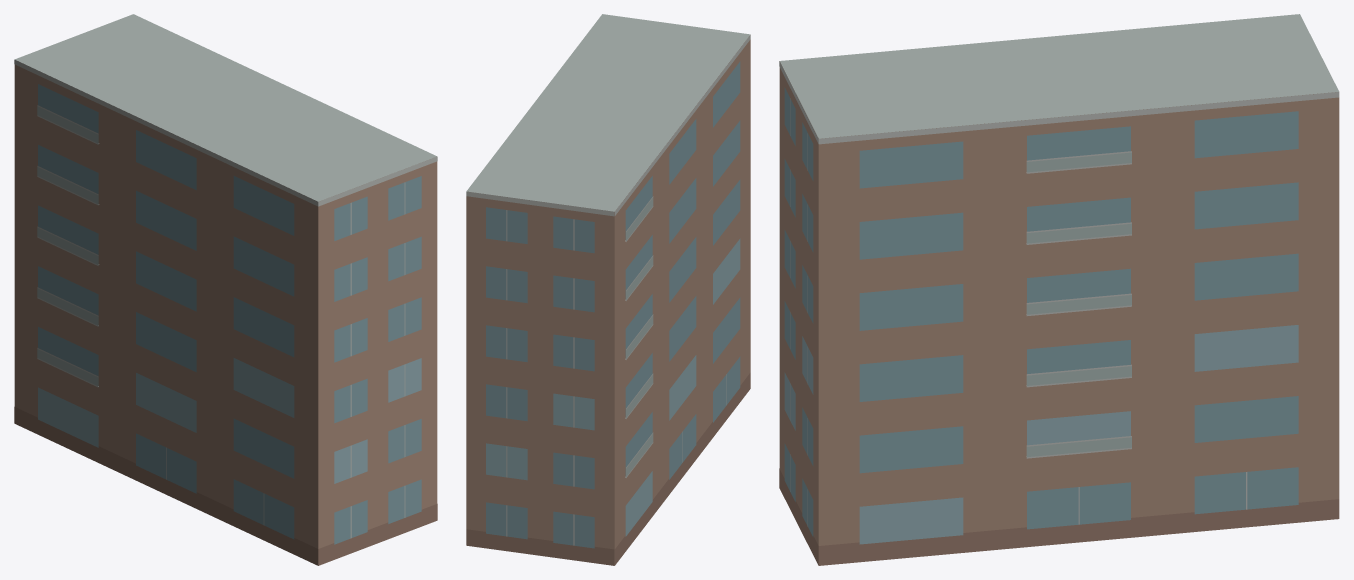
Rendered from survey-upis-32707546.glb.
3 renders of one model, left to right at view 1: azimuth 30°, elevation 25°; view 2: azimuth 150°, elevation 25°; view 3: azimuth 270°, elevation 25°, orthographic. The views are drawn at different scales.
Parts seen in each view (by area): view 1: survey-upis-32707546.tmp; view 2: survey-upis-32707546.tmp; view 3: survey-upis-32707546.tmp.
Boxes of the visible parts, <box> form: survey-upis-32707546.tmp: <box>14,14,437,565</box>; survey-upis-32707546.tmp: <box>466,14,750,565</box>; survey-upis-32707546.tmp: <box>779,14,1339,565</box>.
Bounding box in the file's own units: 11.47 × 18.3 × 21.74.
